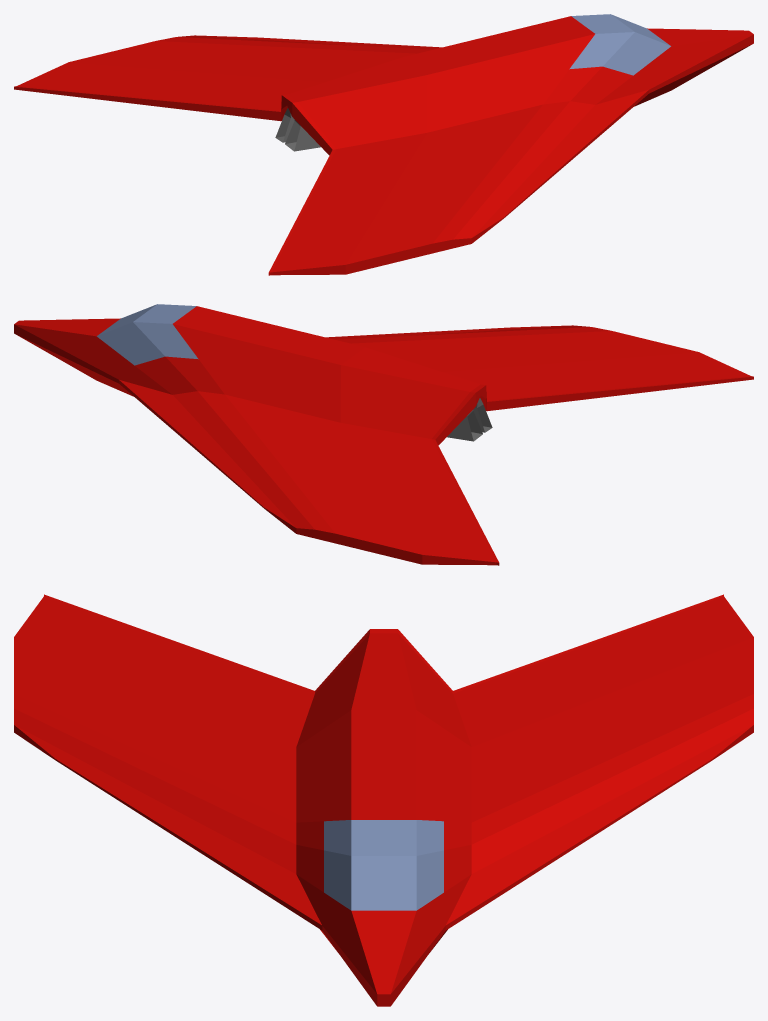
Rendered from MyShip.fbx.
The picture shows the model from 3 angles, top to bottom: view 1: azimuth 30°, elevation 25°; view 2: azimuth 150°, elevation 25°; view 3: azimuth 270°, elevation 25°; orthographic projection. The views are drawn at different scales.
Parts seen in each view (by area): view 1: Cube; view 2: Cube; view 3: Cube.
Part boxes in pixels (x1=…): Cube: x1=14, y1=14, x2=753, y2=275; Cube: x1=14, y1=304, x2=753, y2=565; Cube: x1=14, y1=594, x2=753, y2=1006.
Size of the model in its own units: 740 by 87.13 by 582.
